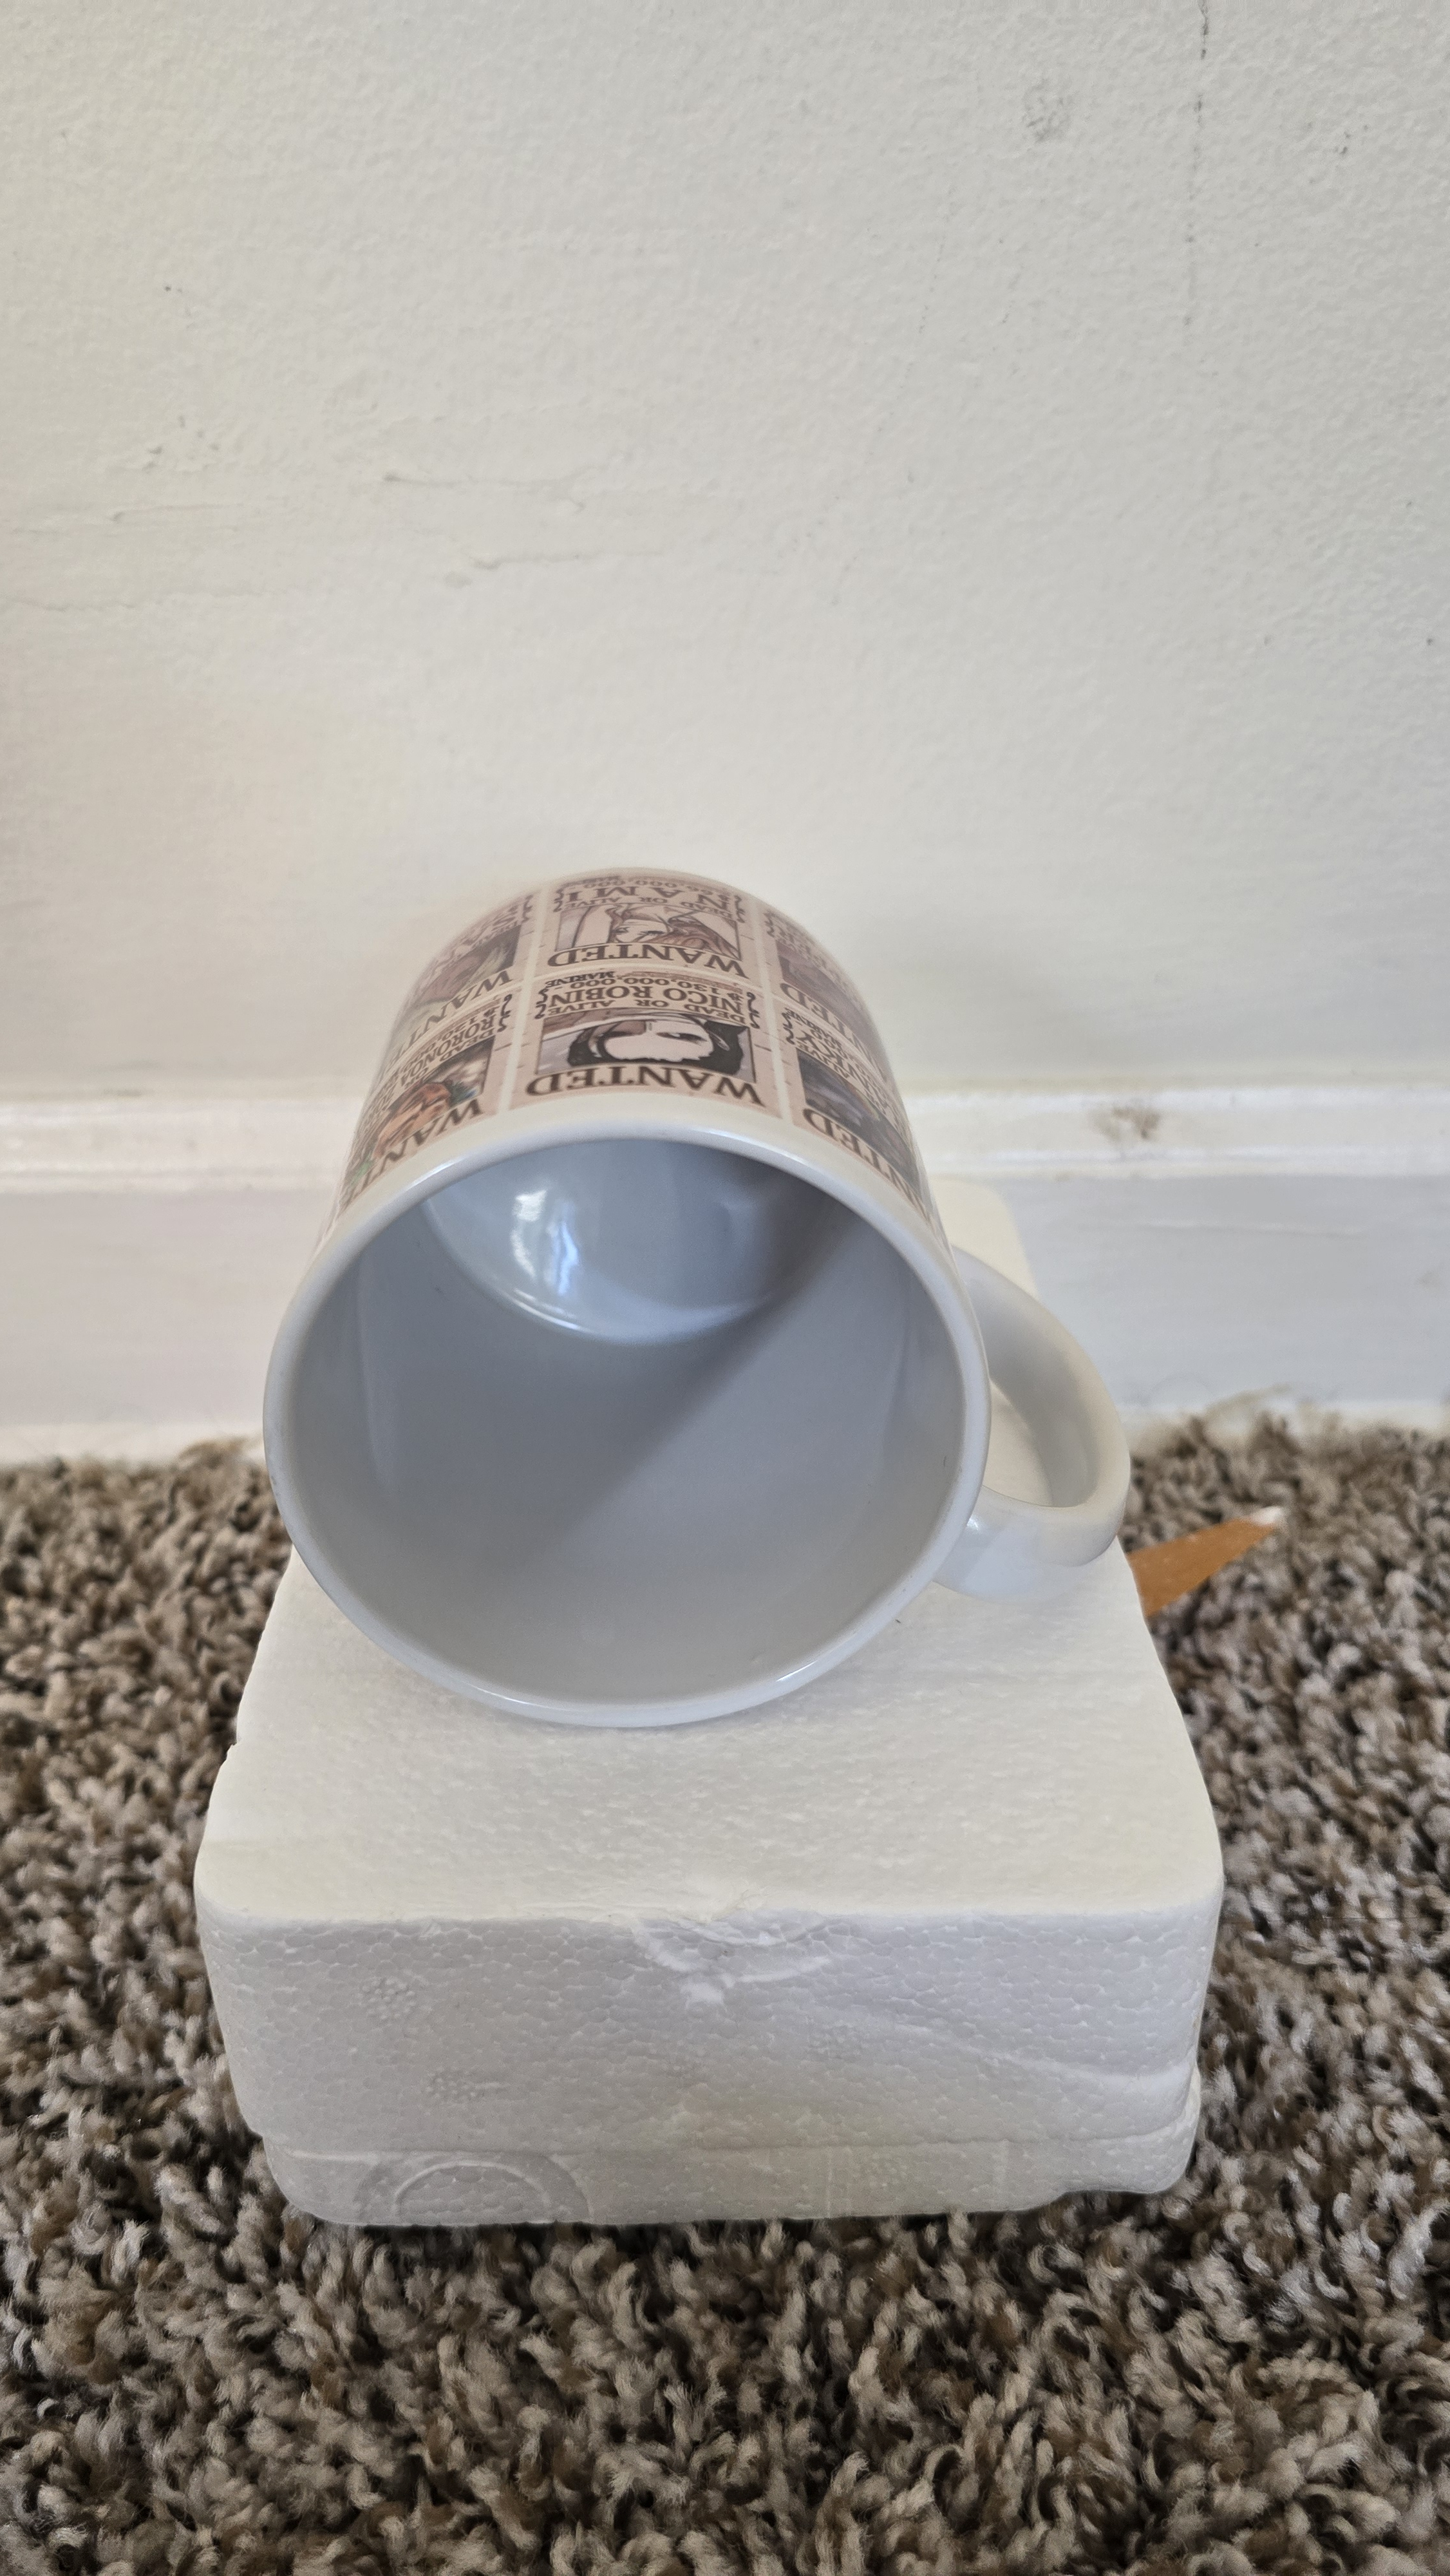mug: (219, 764, 1174, 1739)
